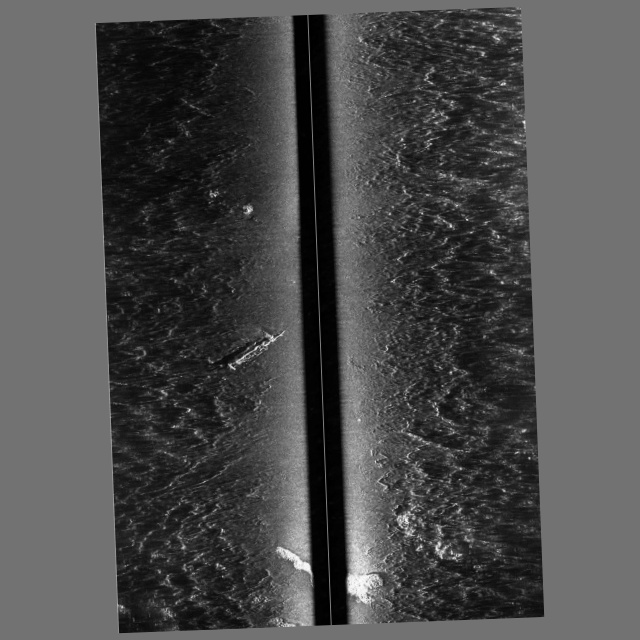Shipwreck: (226, 328, 287, 371)
